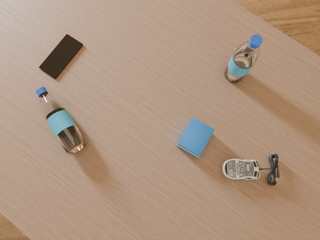bottle: (36, 87, 86, 154), (224, 35, 262, 83)
box: (177, 118, 214, 158)
mouse: (223, 159, 263, 180)
phone: (39, 34, 83, 79)
